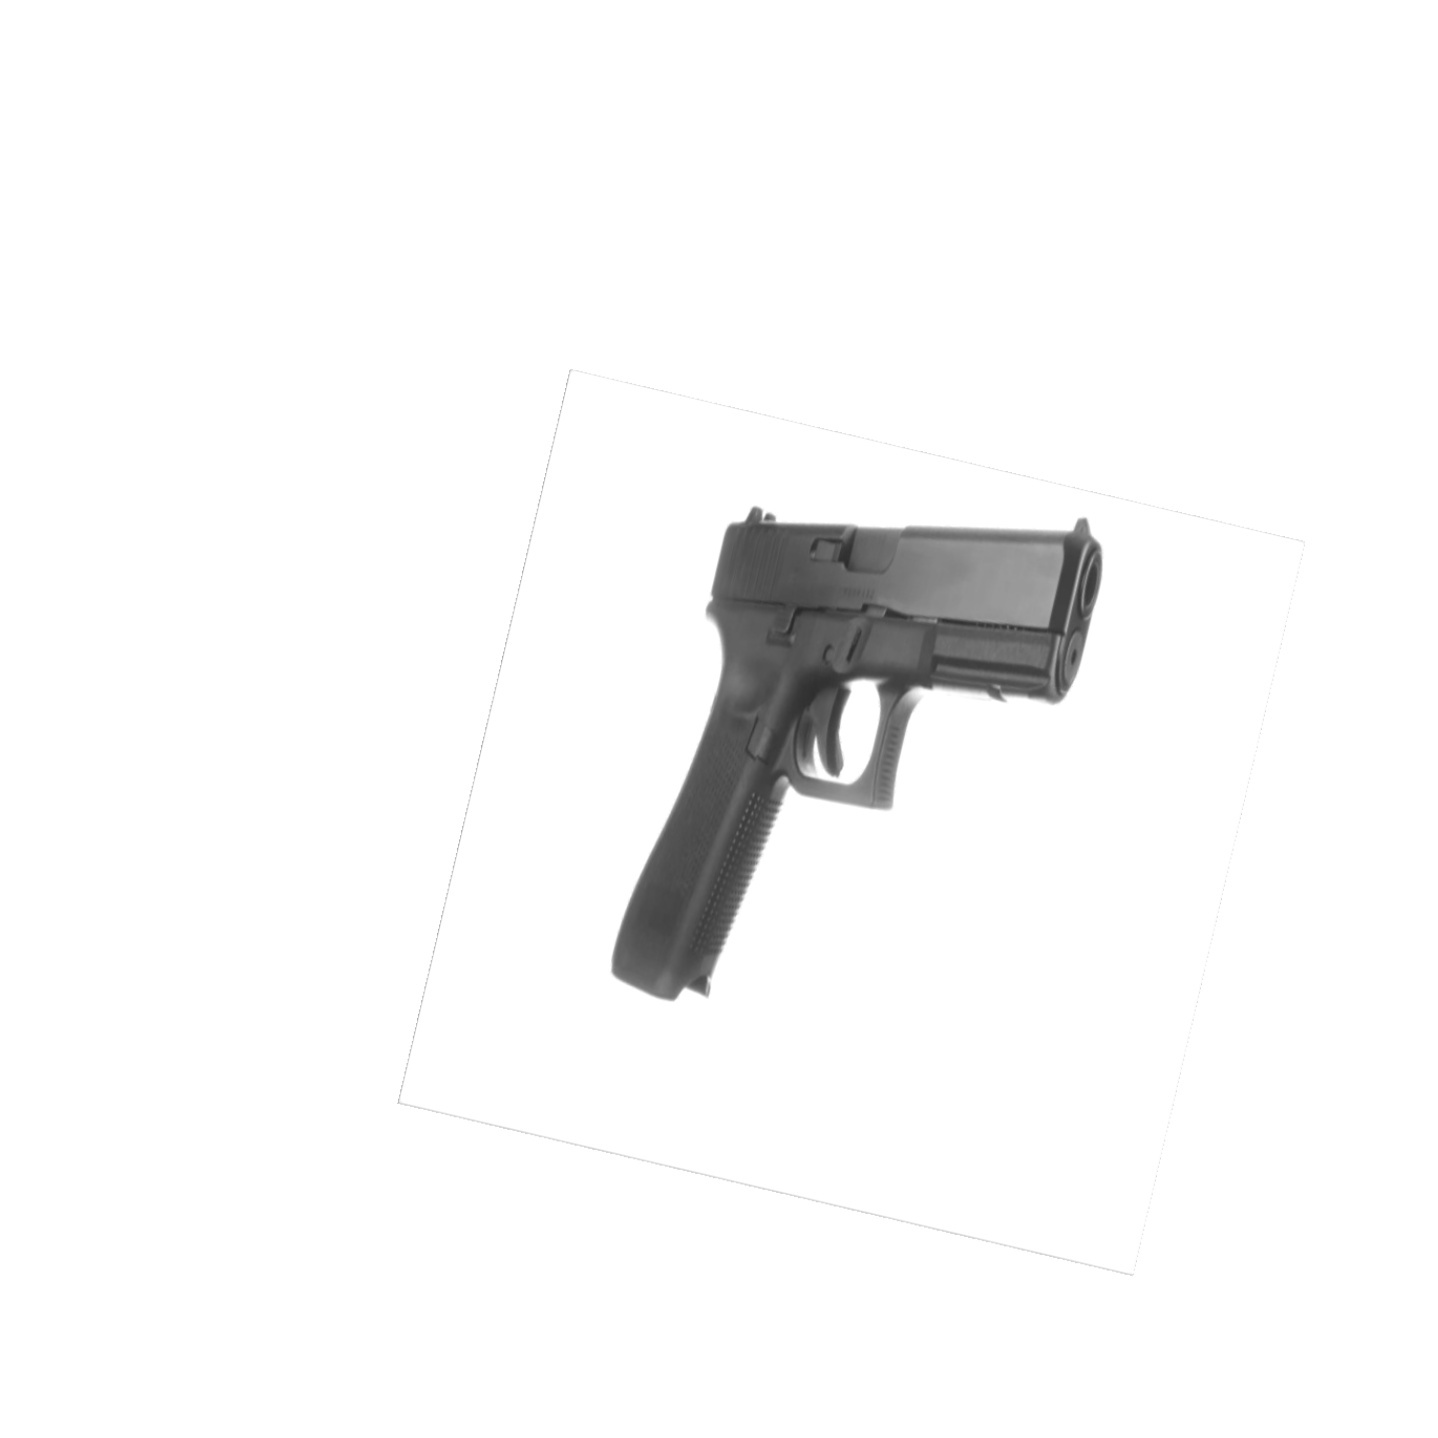gun: (603, 500, 1111, 1003)
